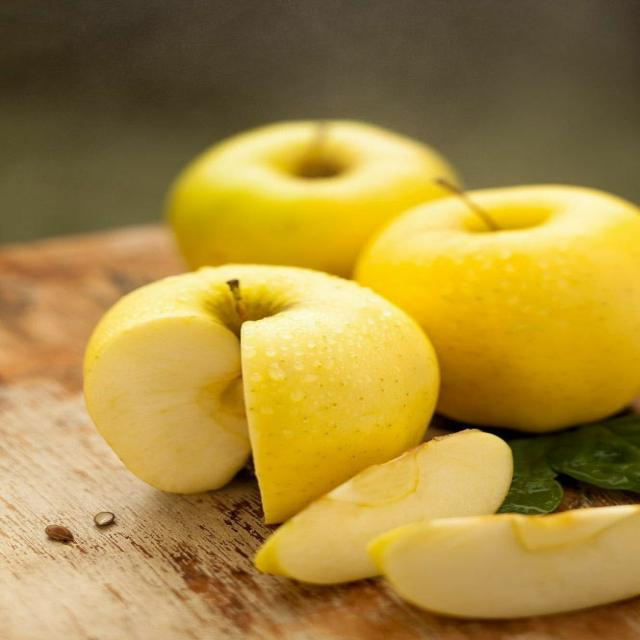apple: (85, 265, 438, 522), (358, 186, 639, 431), (168, 120, 456, 276), (256, 430, 511, 583), (370, 505, 639, 618)
